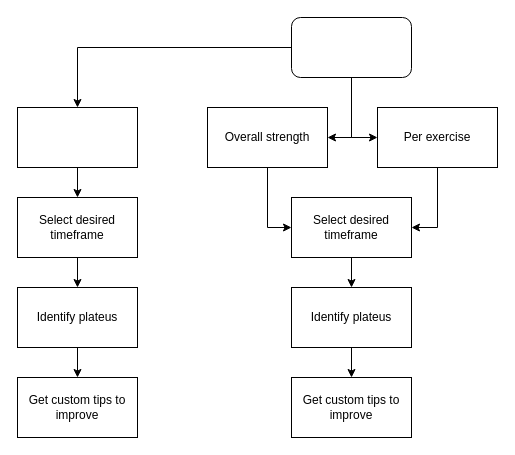
Some shapes in this 515 by 455 pixel diagram are drawn without their labels. The box of each missing label's shape, as (x1, y1, x2, y2) in pixels:
Body composition/ weight: (16, 106, 138, 168)
Select progress caregory: (290, 16, 412, 78)
